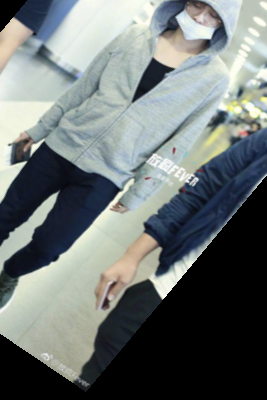mask_weared_incorrect: (147, 1, 243, 47)
